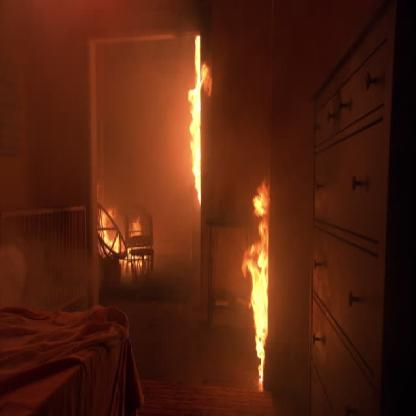fire: (248, 181, 274, 386), (187, 42, 212, 208), (99, 204, 156, 273)
smoke: (0, 3, 196, 315)
